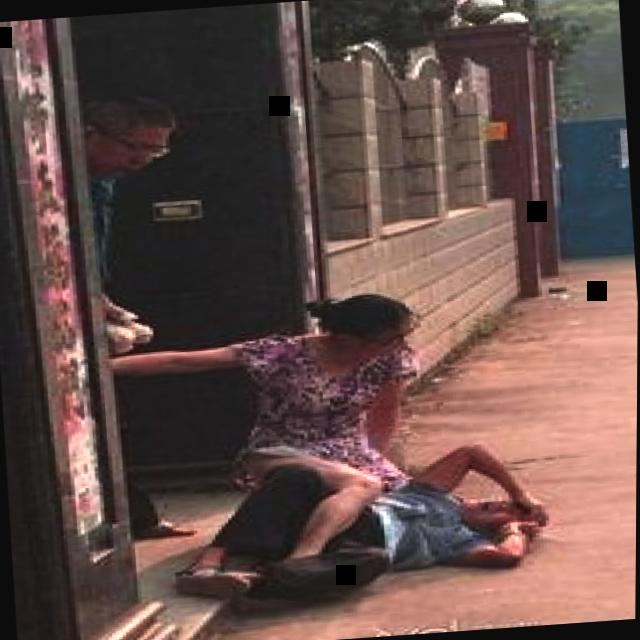Fall-Detected: (143, 432, 545, 626)
